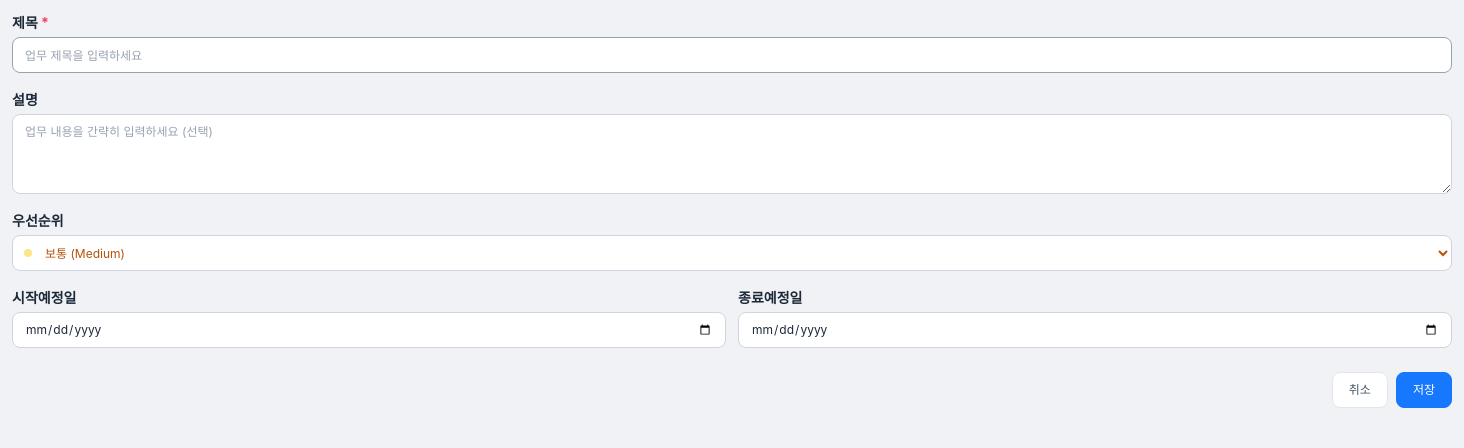
TicketForm › C004-CSS-2: 에러 상태 aria-invalid › 빈 제목으로 제출하면 제목 input에 aria-invalid="true"가 설정된다
The width and height of the screenshot is (1464, 448).
What coordinates should you click on to do the following:
click the button "저장"
I would click on:
 (1424, 390)
Its box is [1396, 372, 1452, 408].
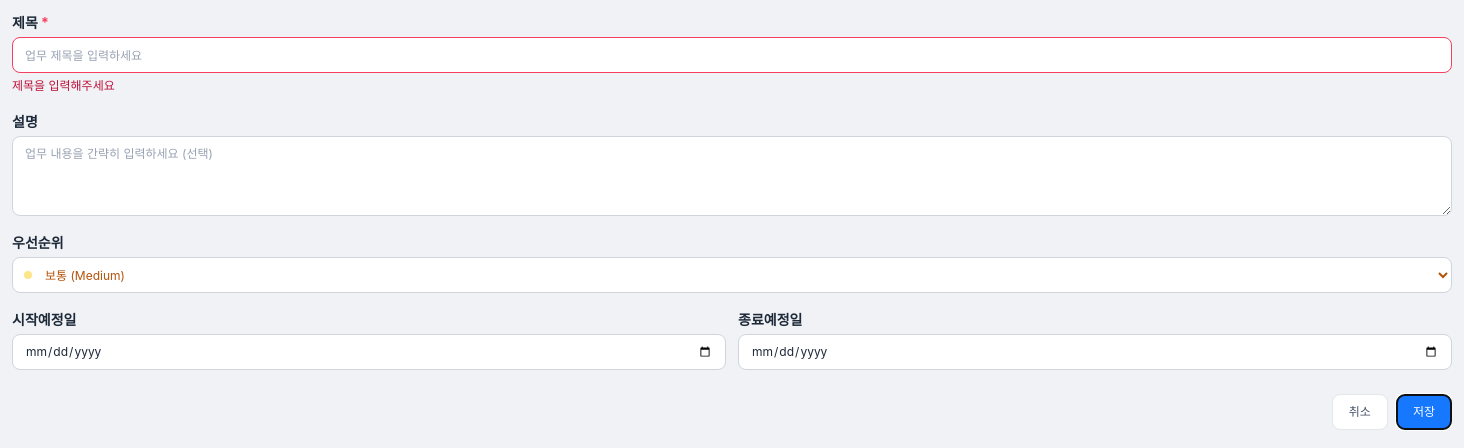
Expected: the text "제목을 입력해주세요" is shown, [12, 78, 115, 93]
